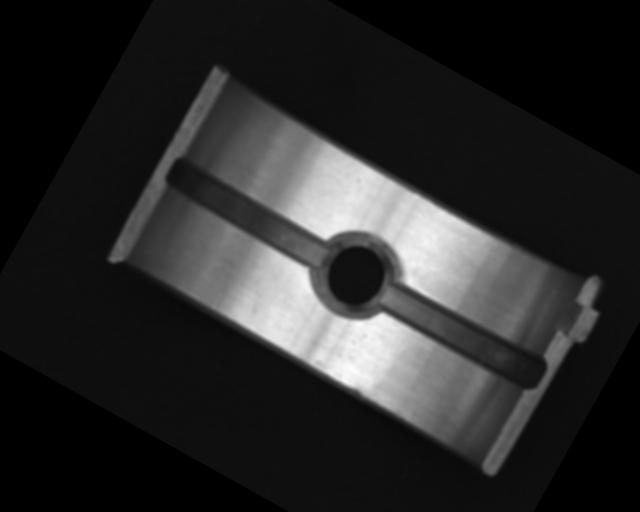gap: (157, 151, 341, 279), (373, 272, 551, 396)
hole: (301, 220, 409, 329)
nick: (208, 289, 225, 311)
